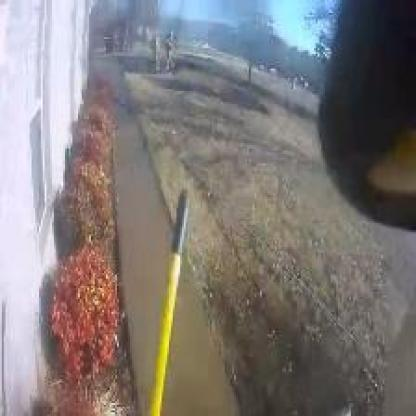other: (54, 223, 122, 352), (151, 241, 178, 404)
